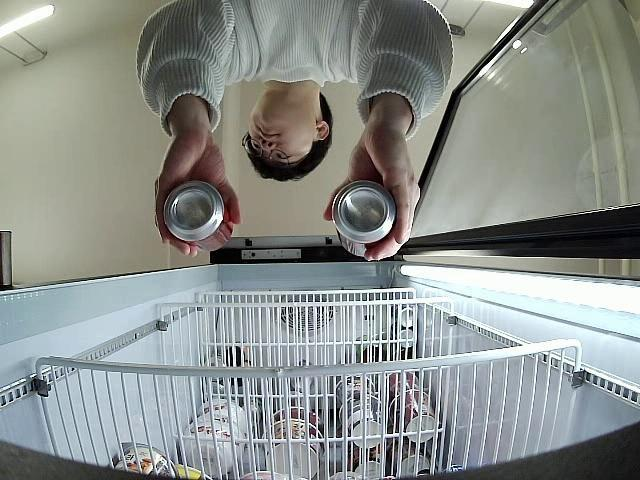11_cocaColaZero: (334, 180, 396, 258), (164, 181, 233, 251)
